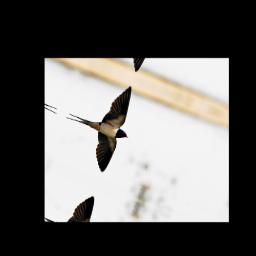Swallow: (52, 66, 145, 179)
